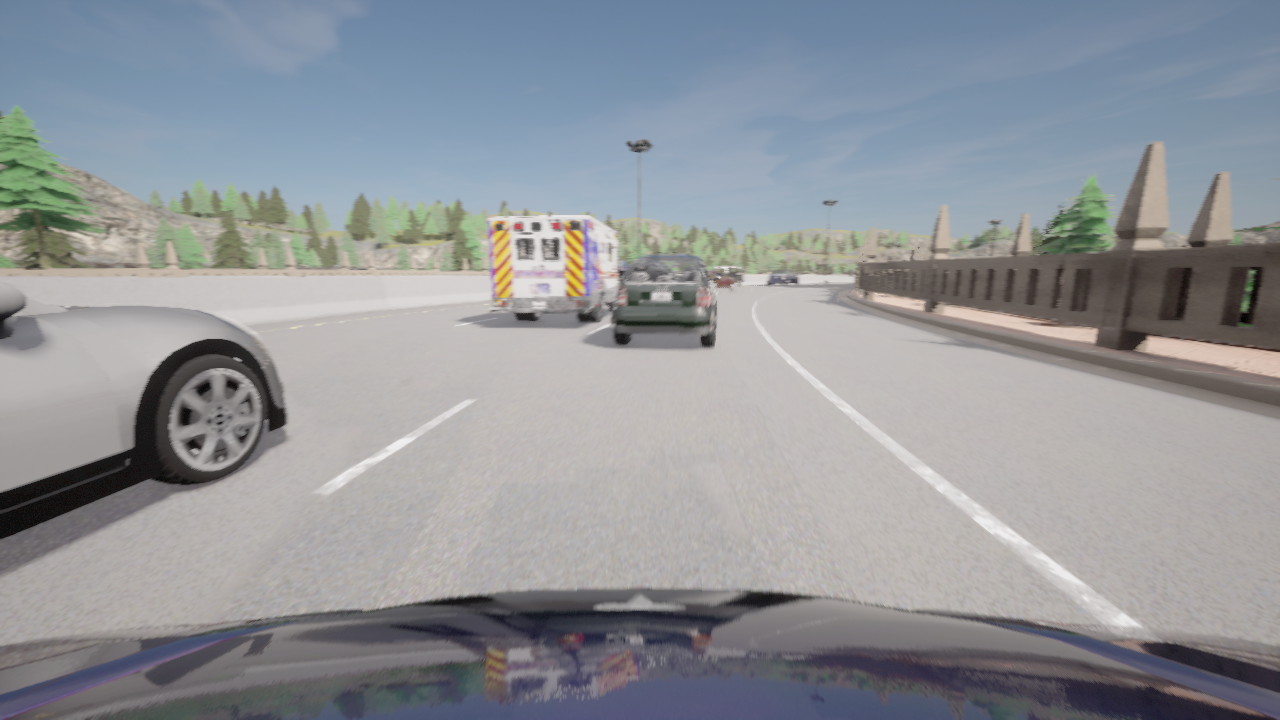cyclist: (0, 588, 1279, 719), (488, 216, 627, 321), (612, 254, 721, 347), (713, 265, 744, 286), (709, 270, 736, 291), (767, 269, 800, 285), (617, 263, 631, 282)
